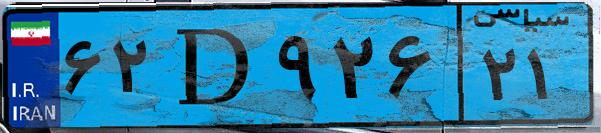1: (525, 38, 570, 115)
2: (330, 28, 385, 110), (475, 38, 525, 113), (110, 28, 158, 98)
6: (385, 28, 445, 110), (57, 26, 110, 100)
9: (270, 28, 330, 110)
D: (158, 12, 270, 120)
